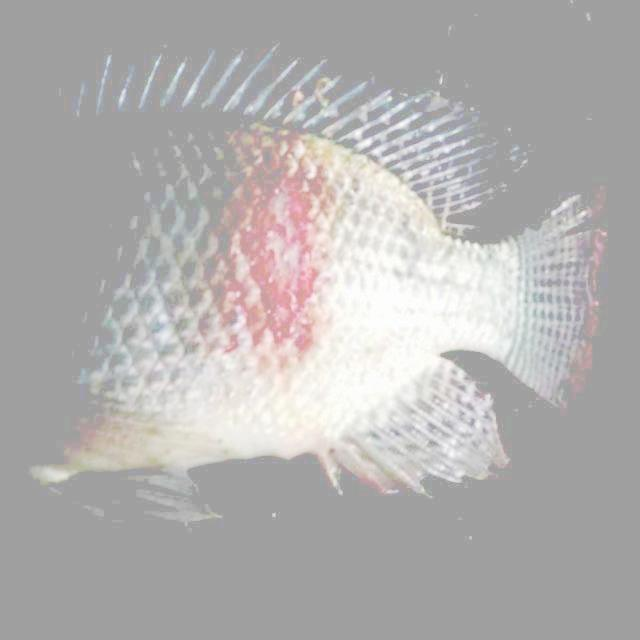Tilapia Lake Virus -TiLV-: (0, 0, 640, 640), (20, 51, 604, 491), (34, 47, 604, 488)
